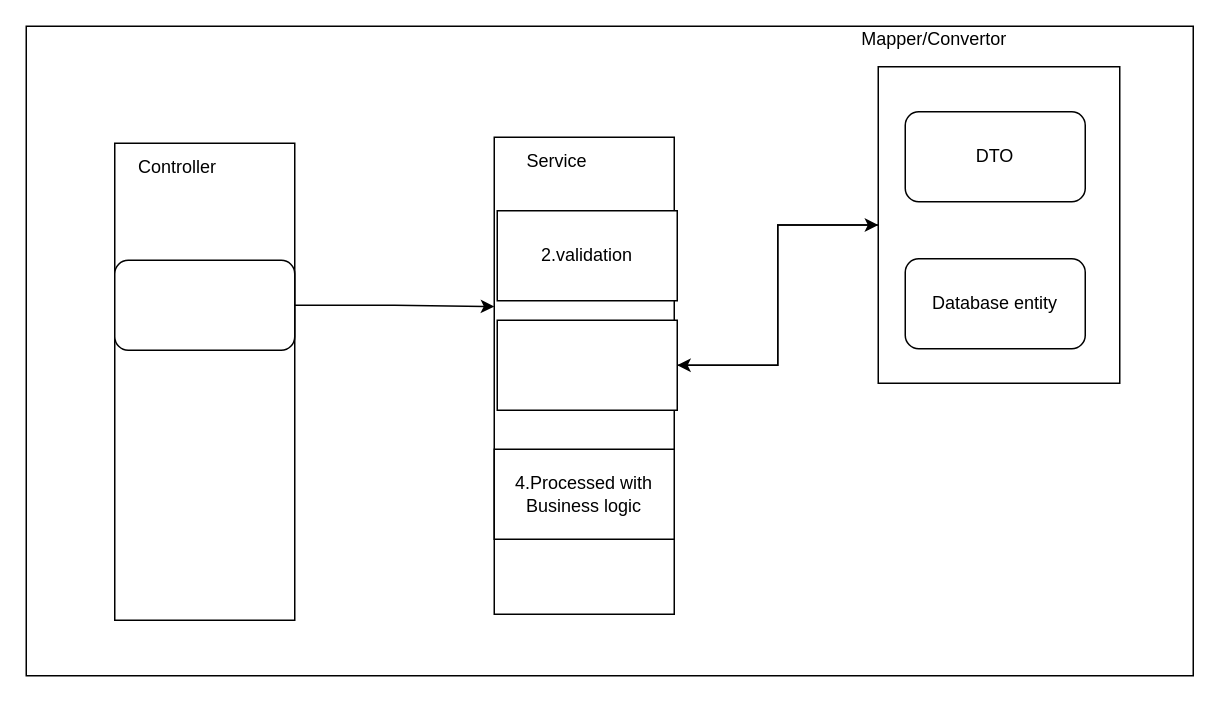
The diagram is 1220 pixels wide and 702 high, and some of its shapes have lost their labels. The shapes that lost their labels are listed below. From the top down, each one's centre as x and y in pixels, then its label:
point (204, 304): 1.DTO
point (586, 364): 3.Mapper/Convertor
